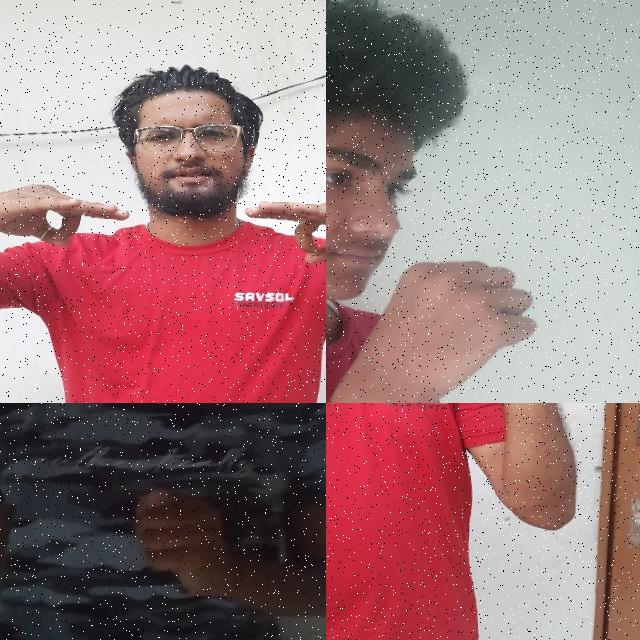Dulya: (123, 480, 245, 616)
Fist Mouth: (326, 0, 580, 403)
Okay: (0, 166, 134, 263), (240, 188, 326, 271)
